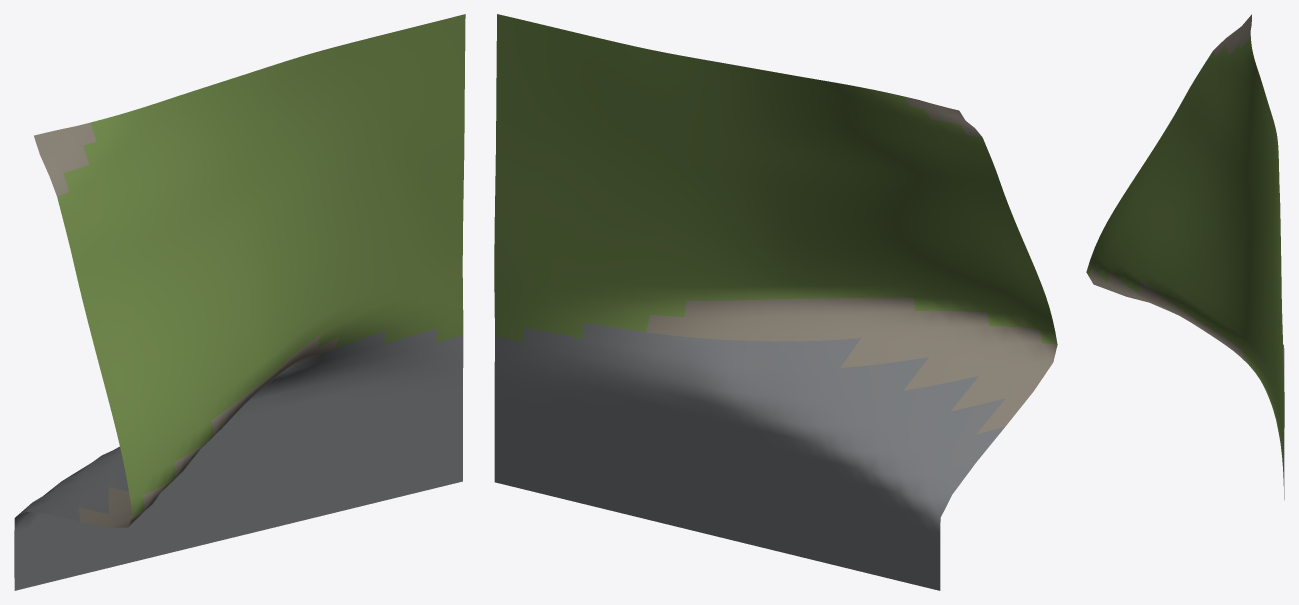
Rendered from island_terrain_08_08.obj.
3 renders of one model, left to right at view 1: azimuth 30°, elevation 25°; view 2: azimuth 150°, elevation 25°; view 3: azimuth 270°, elevation 25°, orthographic. The views are drawn at different scales.
Visible parts, largest first — view 1: island_terrain_08_08; view 2: island_terrain_08_08; view 3: island_terrain_08_08.
Part boxes in pixels (x1=…): island_terrain_08_08: x1=14, y1=14, x2=465, y2=590; island_terrain_08_08: x1=494, y1=14, x2=1057, y2=590; island_terrain_08_08: x1=1086, y1=14, x2=1284, y2=499.
Bounding box in the file's own units: 256 × 256 × 117.
